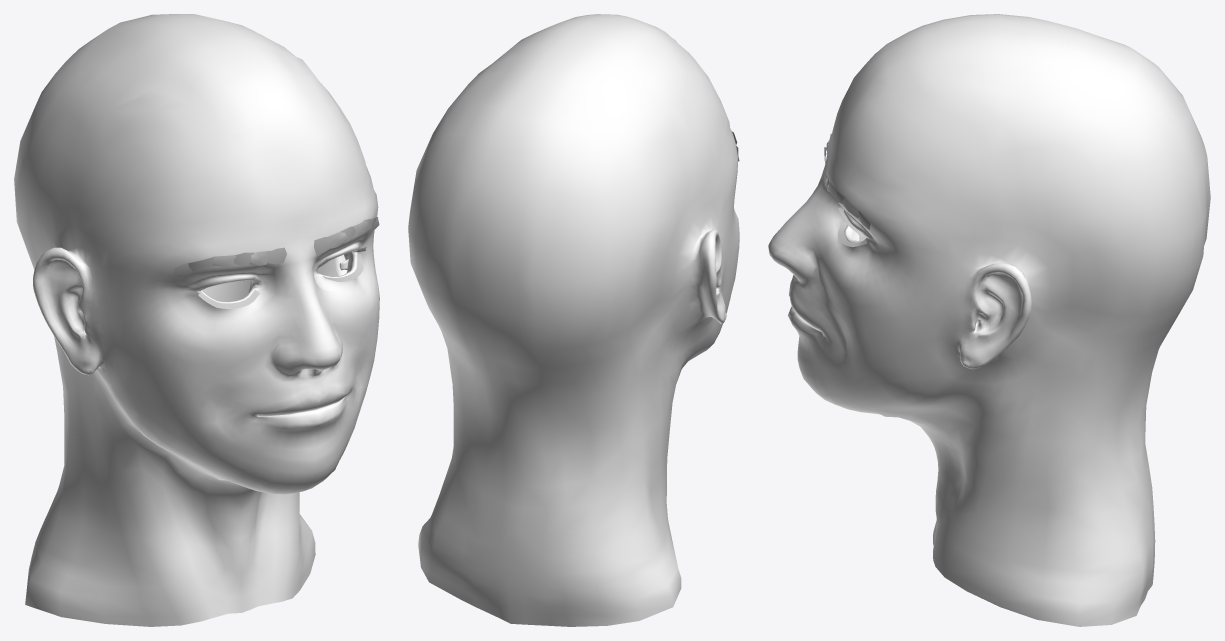
The model's file is eyeLookOutLeft.obj.
The picture shows the model from 3 angles, left to right: view 1: azimuth 30°, elevation 25°; view 2: azimuth 150°, elevation 25°; view 3: azimuth 270°, elevation 25°; orthographic projection. The views are drawn at different scales.
Visible parts, largest first — view 1: FaceMesh_Plane.003; view 2: FaceMesh_Plane.003; view 3: FaceMesh_Plane.003.
Boxes of the visible parts, left/top/right/bottom form: FaceMesh_Plane.003: left=14, top=14, right=379, bottom=626; FaceMesh_Plane.003: left=408, top=14, right=739, bottom=626; FaceMesh_Plane.003: left=768, top=14, right=1210, bottom=626.
Size of the model in its own units: 1.54 by 2.71 by 1.94.
5 materials, 1 textured.
